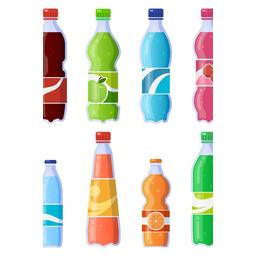plastic: (76, 4, 132, 126), (78, 130, 126, 249), (134, 4, 177, 130), (26, 5, 74, 117)
